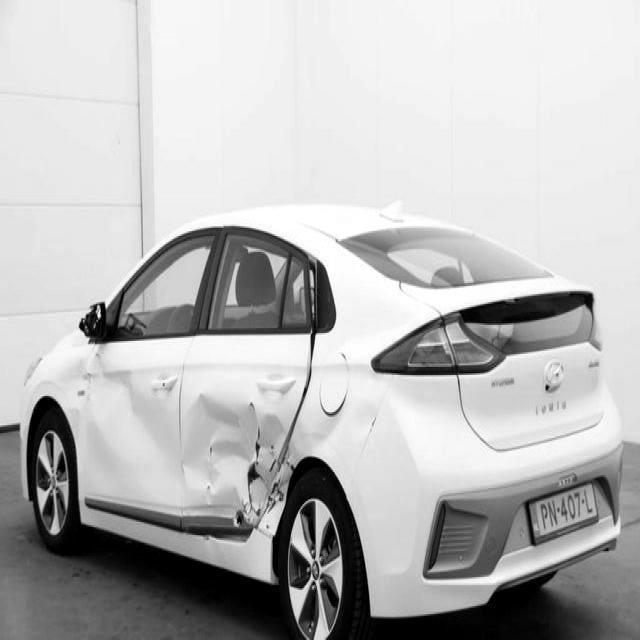doorouter-dent: (176, 327, 304, 542), (81, 344, 170, 477)
